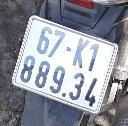1: (83, 38, 104, 74)
3: (66, 70, 89, 104)
4: (80, 75, 103, 110)
6: (33, 24, 55, 59)
7: (46, 28, 69, 61)
8: (30, 56, 54, 91), (18, 51, 39, 85)
9: (46, 62, 68, 96)
K: (70, 36, 92, 70)
